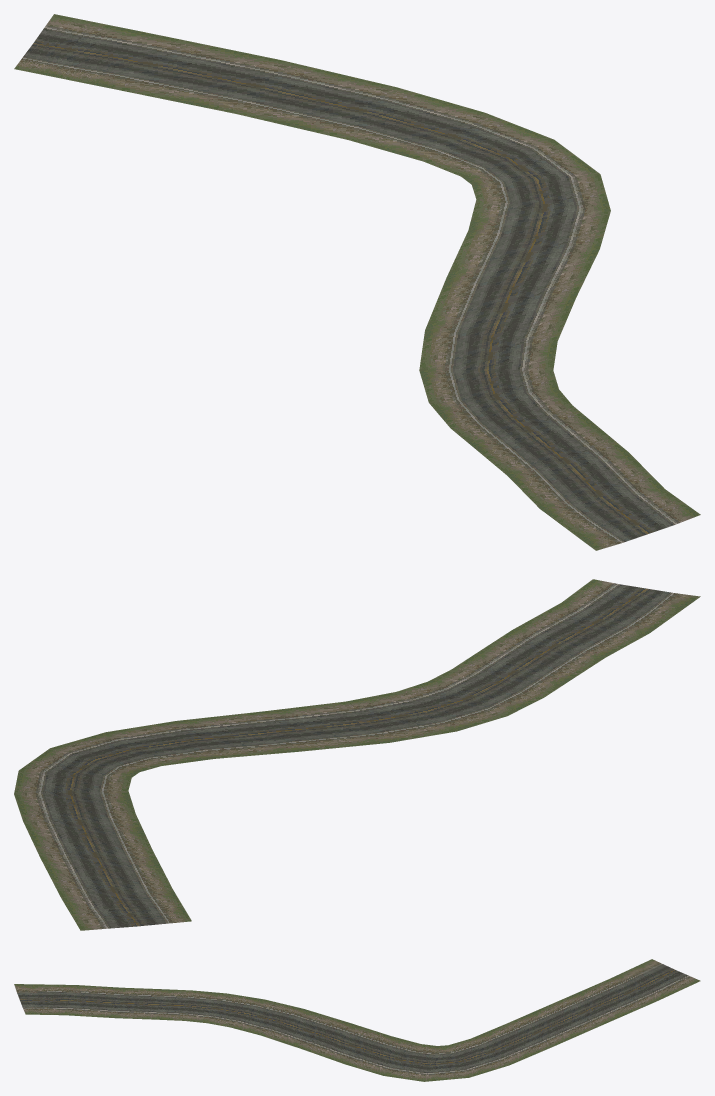
The model's file is lodcunte_roads39.obj.
The picture shows the model from 3 angles, top to bottom: view 1: azimuth 30°, elevation 25°; view 2: azimuth 150°, elevation 25°; view 3: azimuth 270°, elevation 25°; orthographic projection. The views are drawn at different scales.
Visible parts, largest first — view 1: LODcunte_roads39; view 2: LODcunte_roads39; view 3: LODcunte_roads39.
Part boxes in pixels (bbox=[...]): LODcunte_roads39: bbox=[14, 14, 700, 550]; LODcunte_roads39: bbox=[14, 579, 700, 930]; LODcunte_roads39: bbox=[14, 959, 700, 1081].
Bounding box in the file's own units: 66.24 × 8.95 × 190.
Materials: 1 (1 with a texture image).
